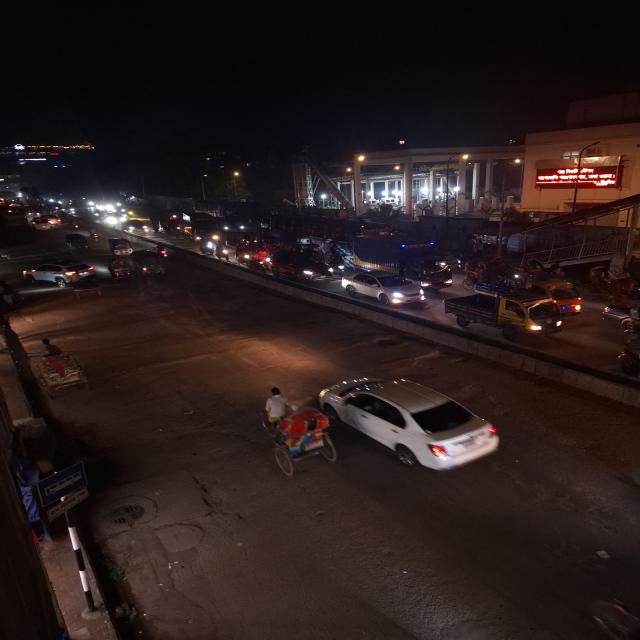bus: (215, 204, 250, 236), (3, 206, 30, 232)
car: (336, 364, 498, 472), (341, 270, 423, 308), (270, 250, 331, 284), (18, 259, 98, 284), (120, 220, 149, 234), (32, 218, 54, 232), (47, 215, 63, 226)
cng: (133, 250, 165, 279), (59, 232, 90, 256), (105, 236, 134, 258)
motorcycle: (157, 219, 182, 240), (195, 237, 215, 256), (155, 242, 172, 264), (214, 240, 231, 262), (247, 258, 267, 274), (89, 228, 101, 244), (70, 220, 80, 231)
pickup_van: (443, 287, 562, 340), (476, 278, 587, 319)
rickshaw: (250, 385, 341, 481), (30, 342, 94, 402), (587, 266, 633, 305), (67, 274, 103, 302), (106, 256, 134, 284), (463, 260, 489, 288)
truck: (356, 237, 454, 287), (183, 212, 218, 242)
